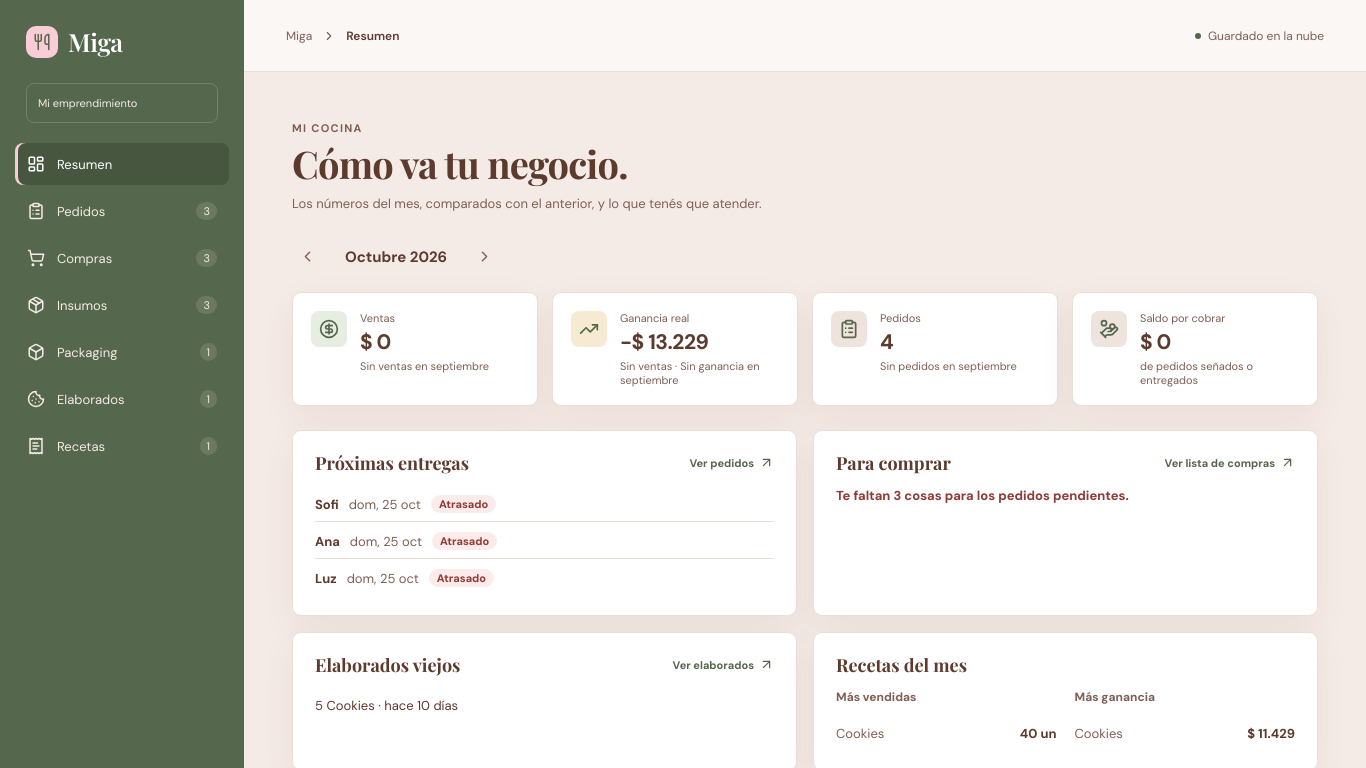
Test case: Shopping list › has its own view in the sidebar, counting what is missing
The width and height of the screenshot is (1366, 768).
Butter, chocolate and boxes are short.
Click the link "Compras 3" at (85, 258), box [27, 249, 217, 267]
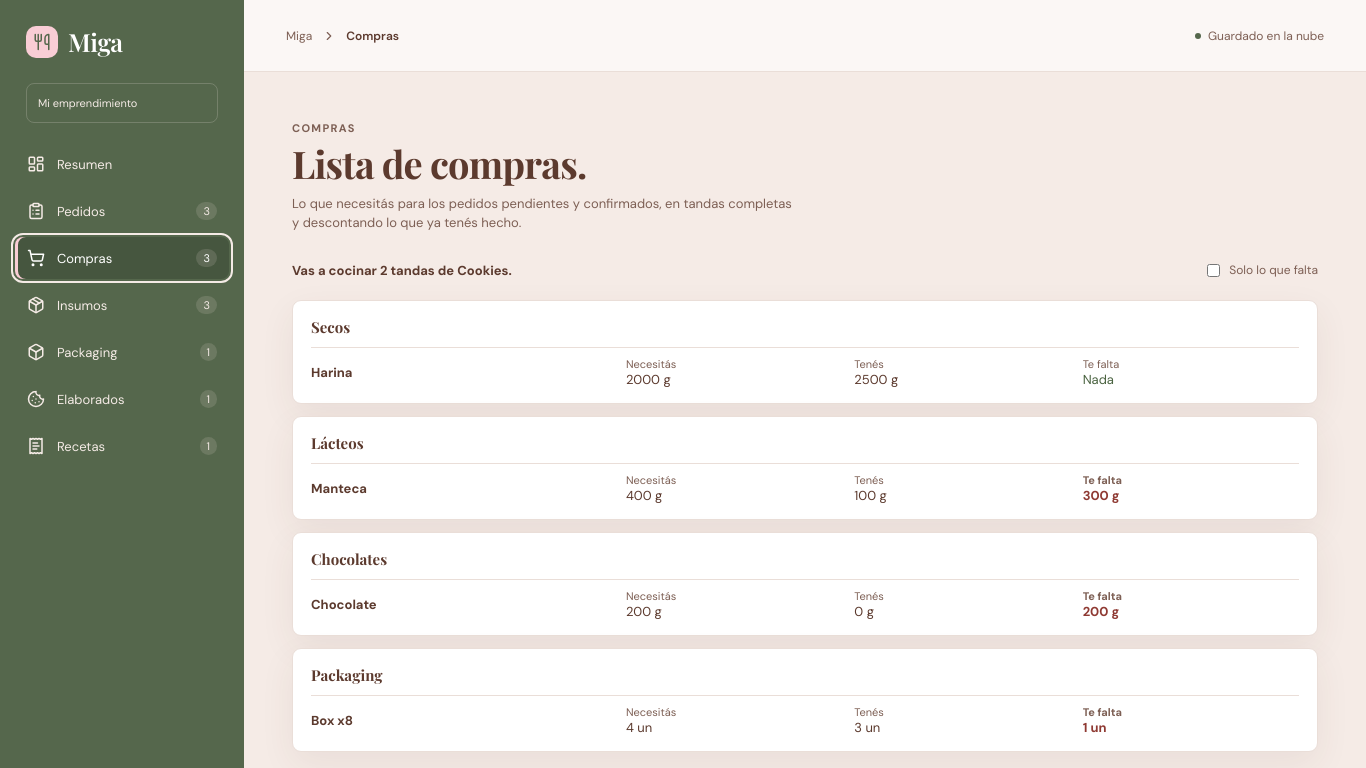
Result: the heading "Lista de compras." is shown at [292, 138, 586, 189]
